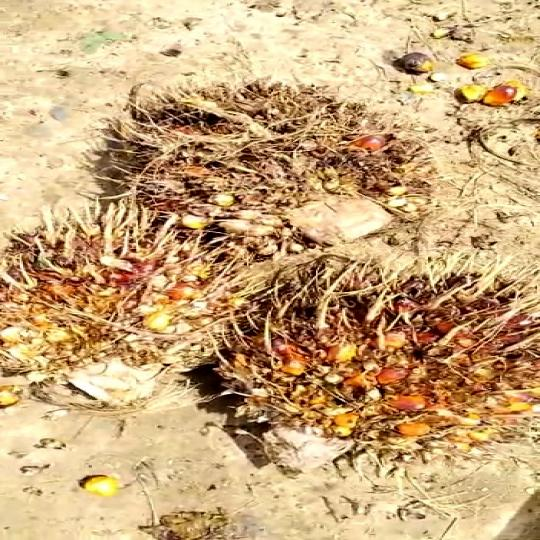terlalu masak: (192, 248, 540, 479), (80, 66, 454, 256), (0, 211, 265, 422)
